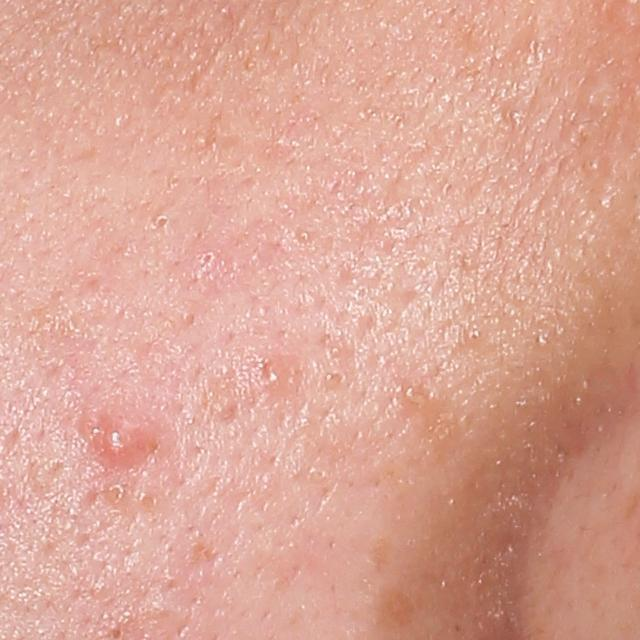comedo: (260, 359, 299, 395), (99, 480, 127, 508), (137, 489, 163, 514)
